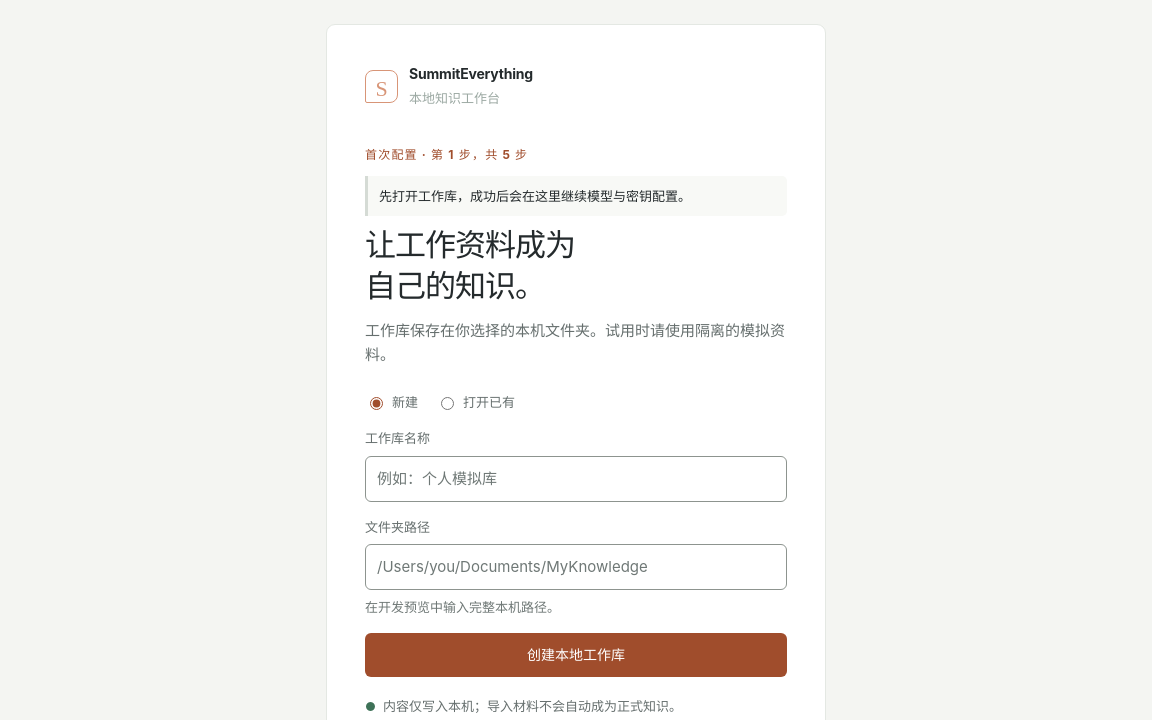
打开已有工作库但没有本机记录：落到今日并给出非阻塞提示，不遮挡今日（QA D-1）
Click the radio button labelled "打开已有".
click(448, 404)  # box [441,398,454,410]
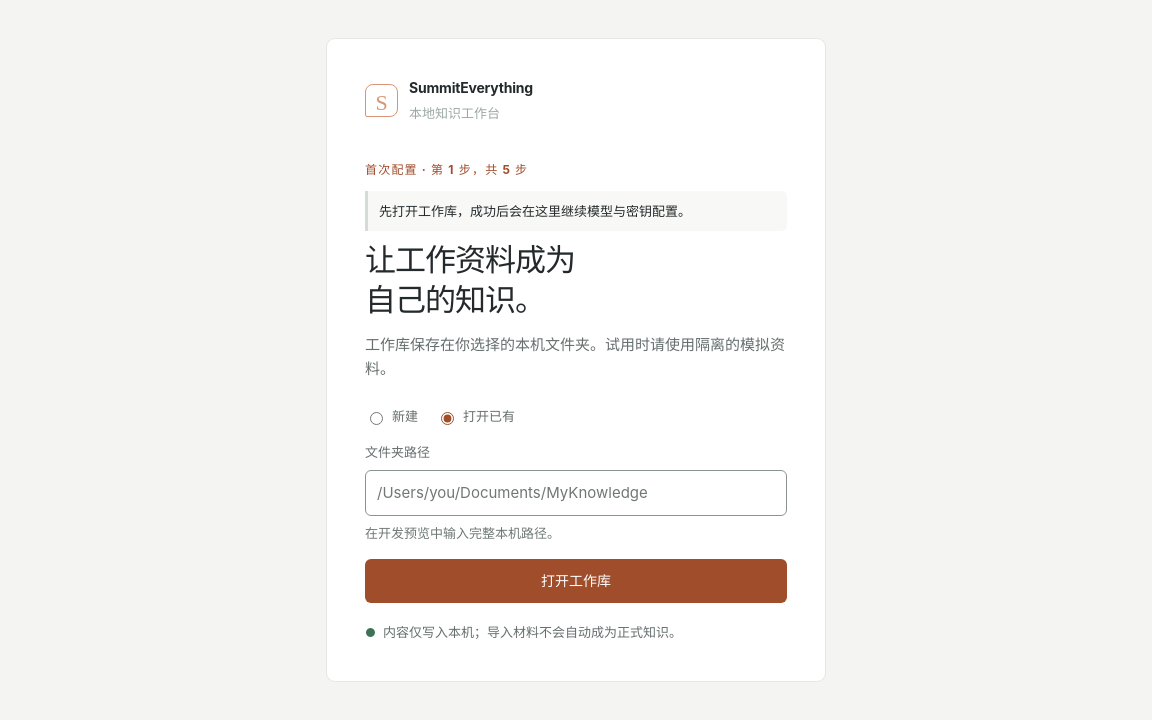
Type "/tmp/workspace" into the field labelled "文件夹路径".
click(576, 493); type("/tmp/workspace")  # box [365,470,787,516]
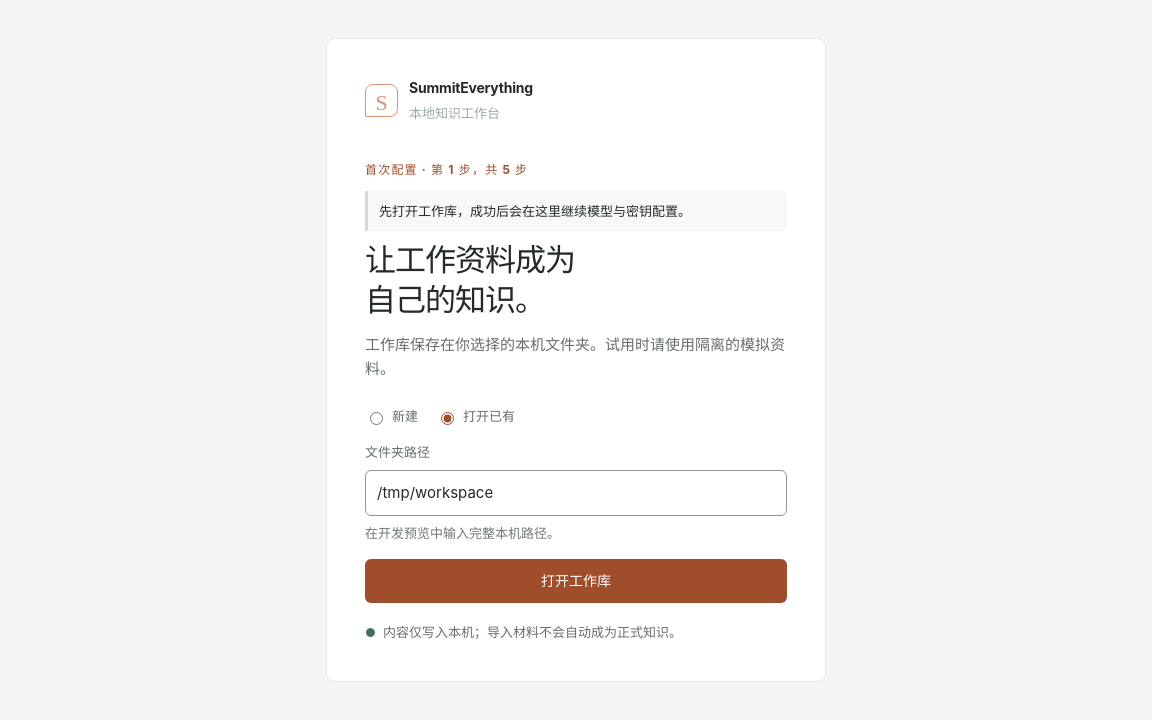
Click the button "打开工作库".
click(576, 581)  # box [365,559,787,603]
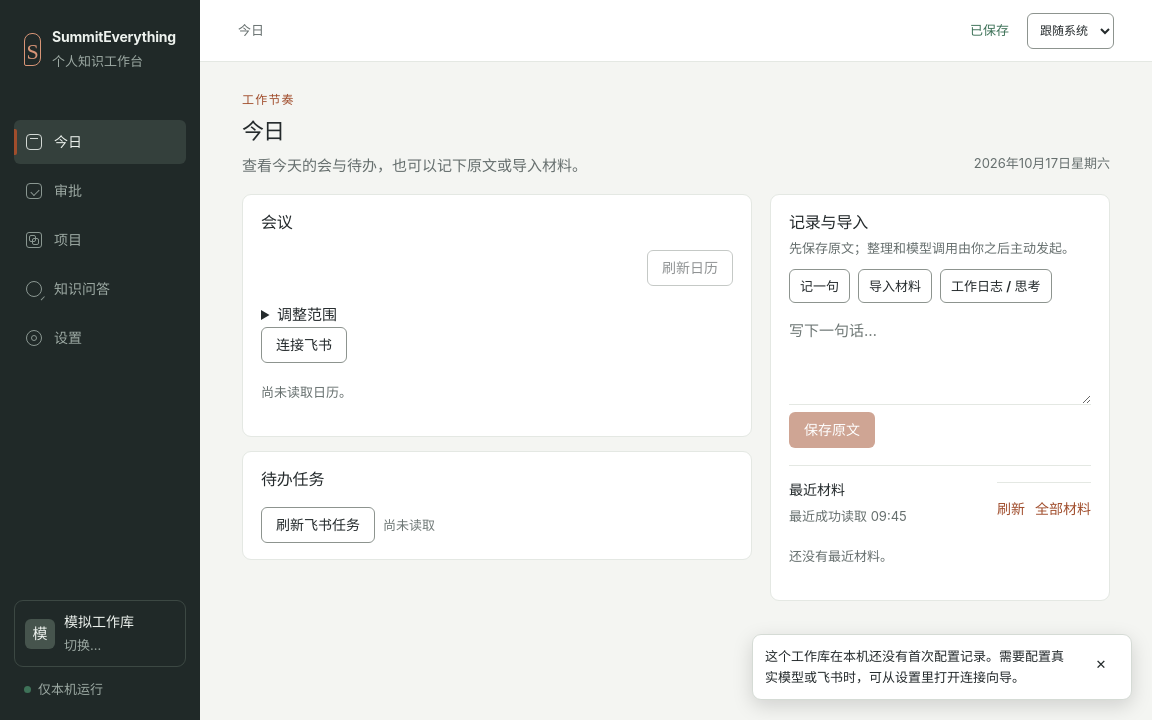
Check: the heading "今日" is shown, box [242,118,284,144]
Check: the text "这个工作库在本机还没有首次配置记录。需要配置真实模型或飞书时，可从设置里打开连接向导。" is shown, box [765,646,1073,688]
